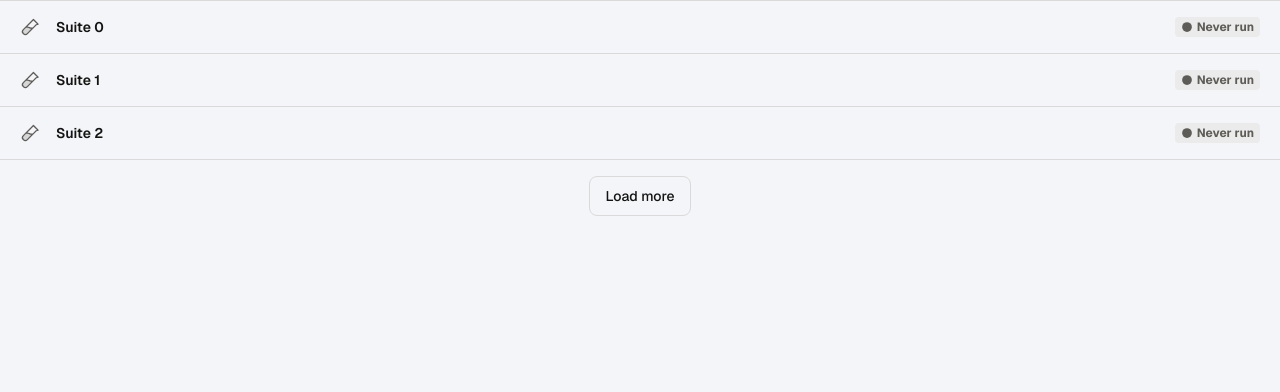
Test case: SuiteListResults announcements › says how many suites the page brought, with the right plural
Click the button "Load more" at (640, 196), box [588,176,692,216]
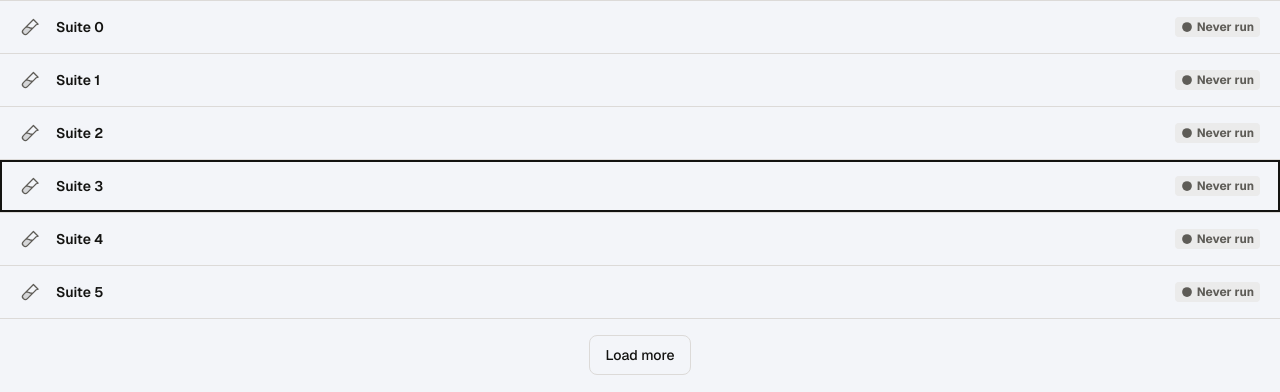
Now the element with test id "suite-row-s3" is shown, box [20,174,1260,198]
Click the button "Load more" at (640, 355), box [588,335,692,375]
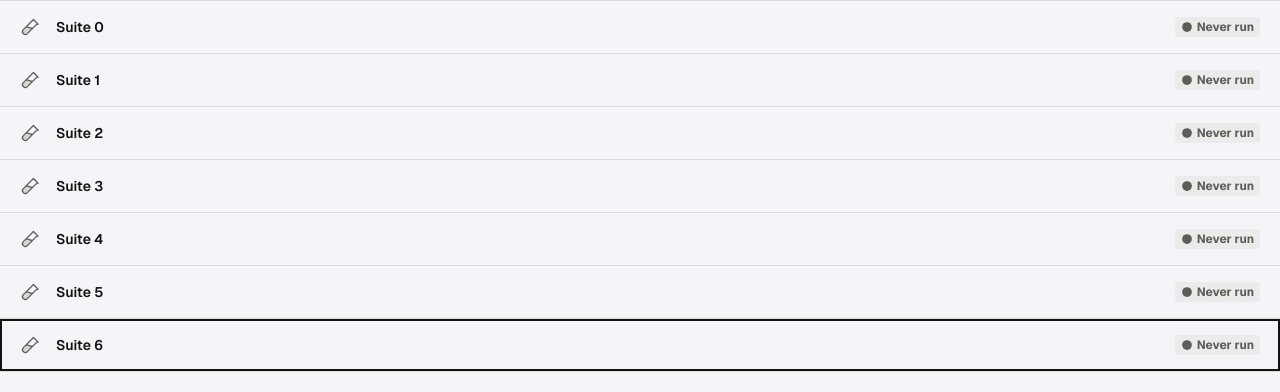
Now the element with test id "suite-row-s6" is shown, box [20,333,1260,357]
